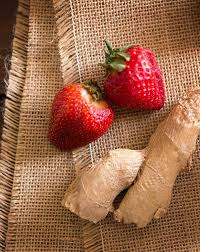strawberry: (44, 80, 115, 155), (100, 45, 169, 114)
